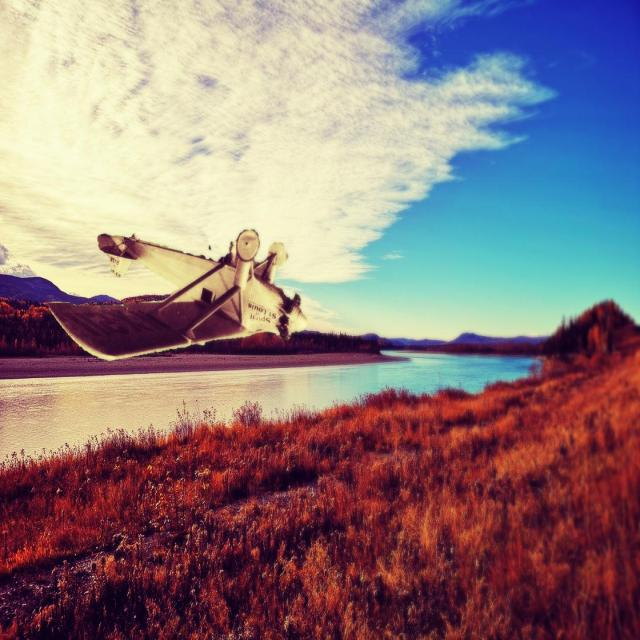airplane: (42, 227, 308, 361)
